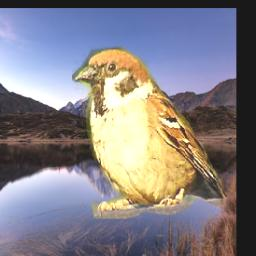Sparrow: (72, 47, 227, 220)
